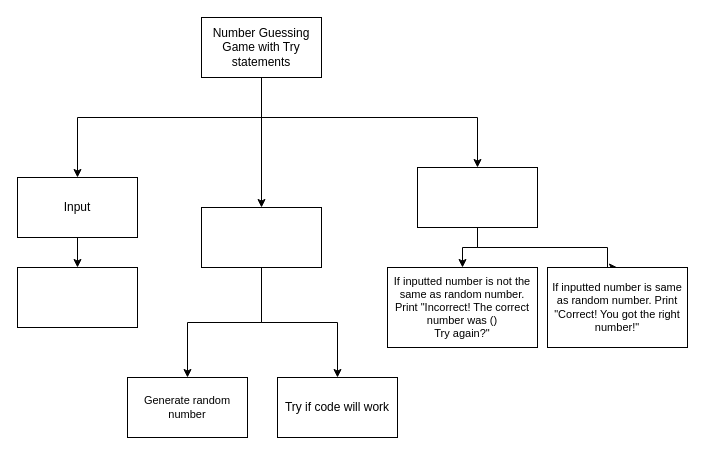
The diagram is 705 pixels wide and 455 high, and some of its shapes have lost their labels. The shapes that lost their labels are listed below. From the top down, each one's box as (x1, y1, x2, y2) in pixels, then its label:
(416, 166, 538, 228): Output
(200, 206, 322, 268): Process
(16, 266, 138, 328): Get inputted guess
